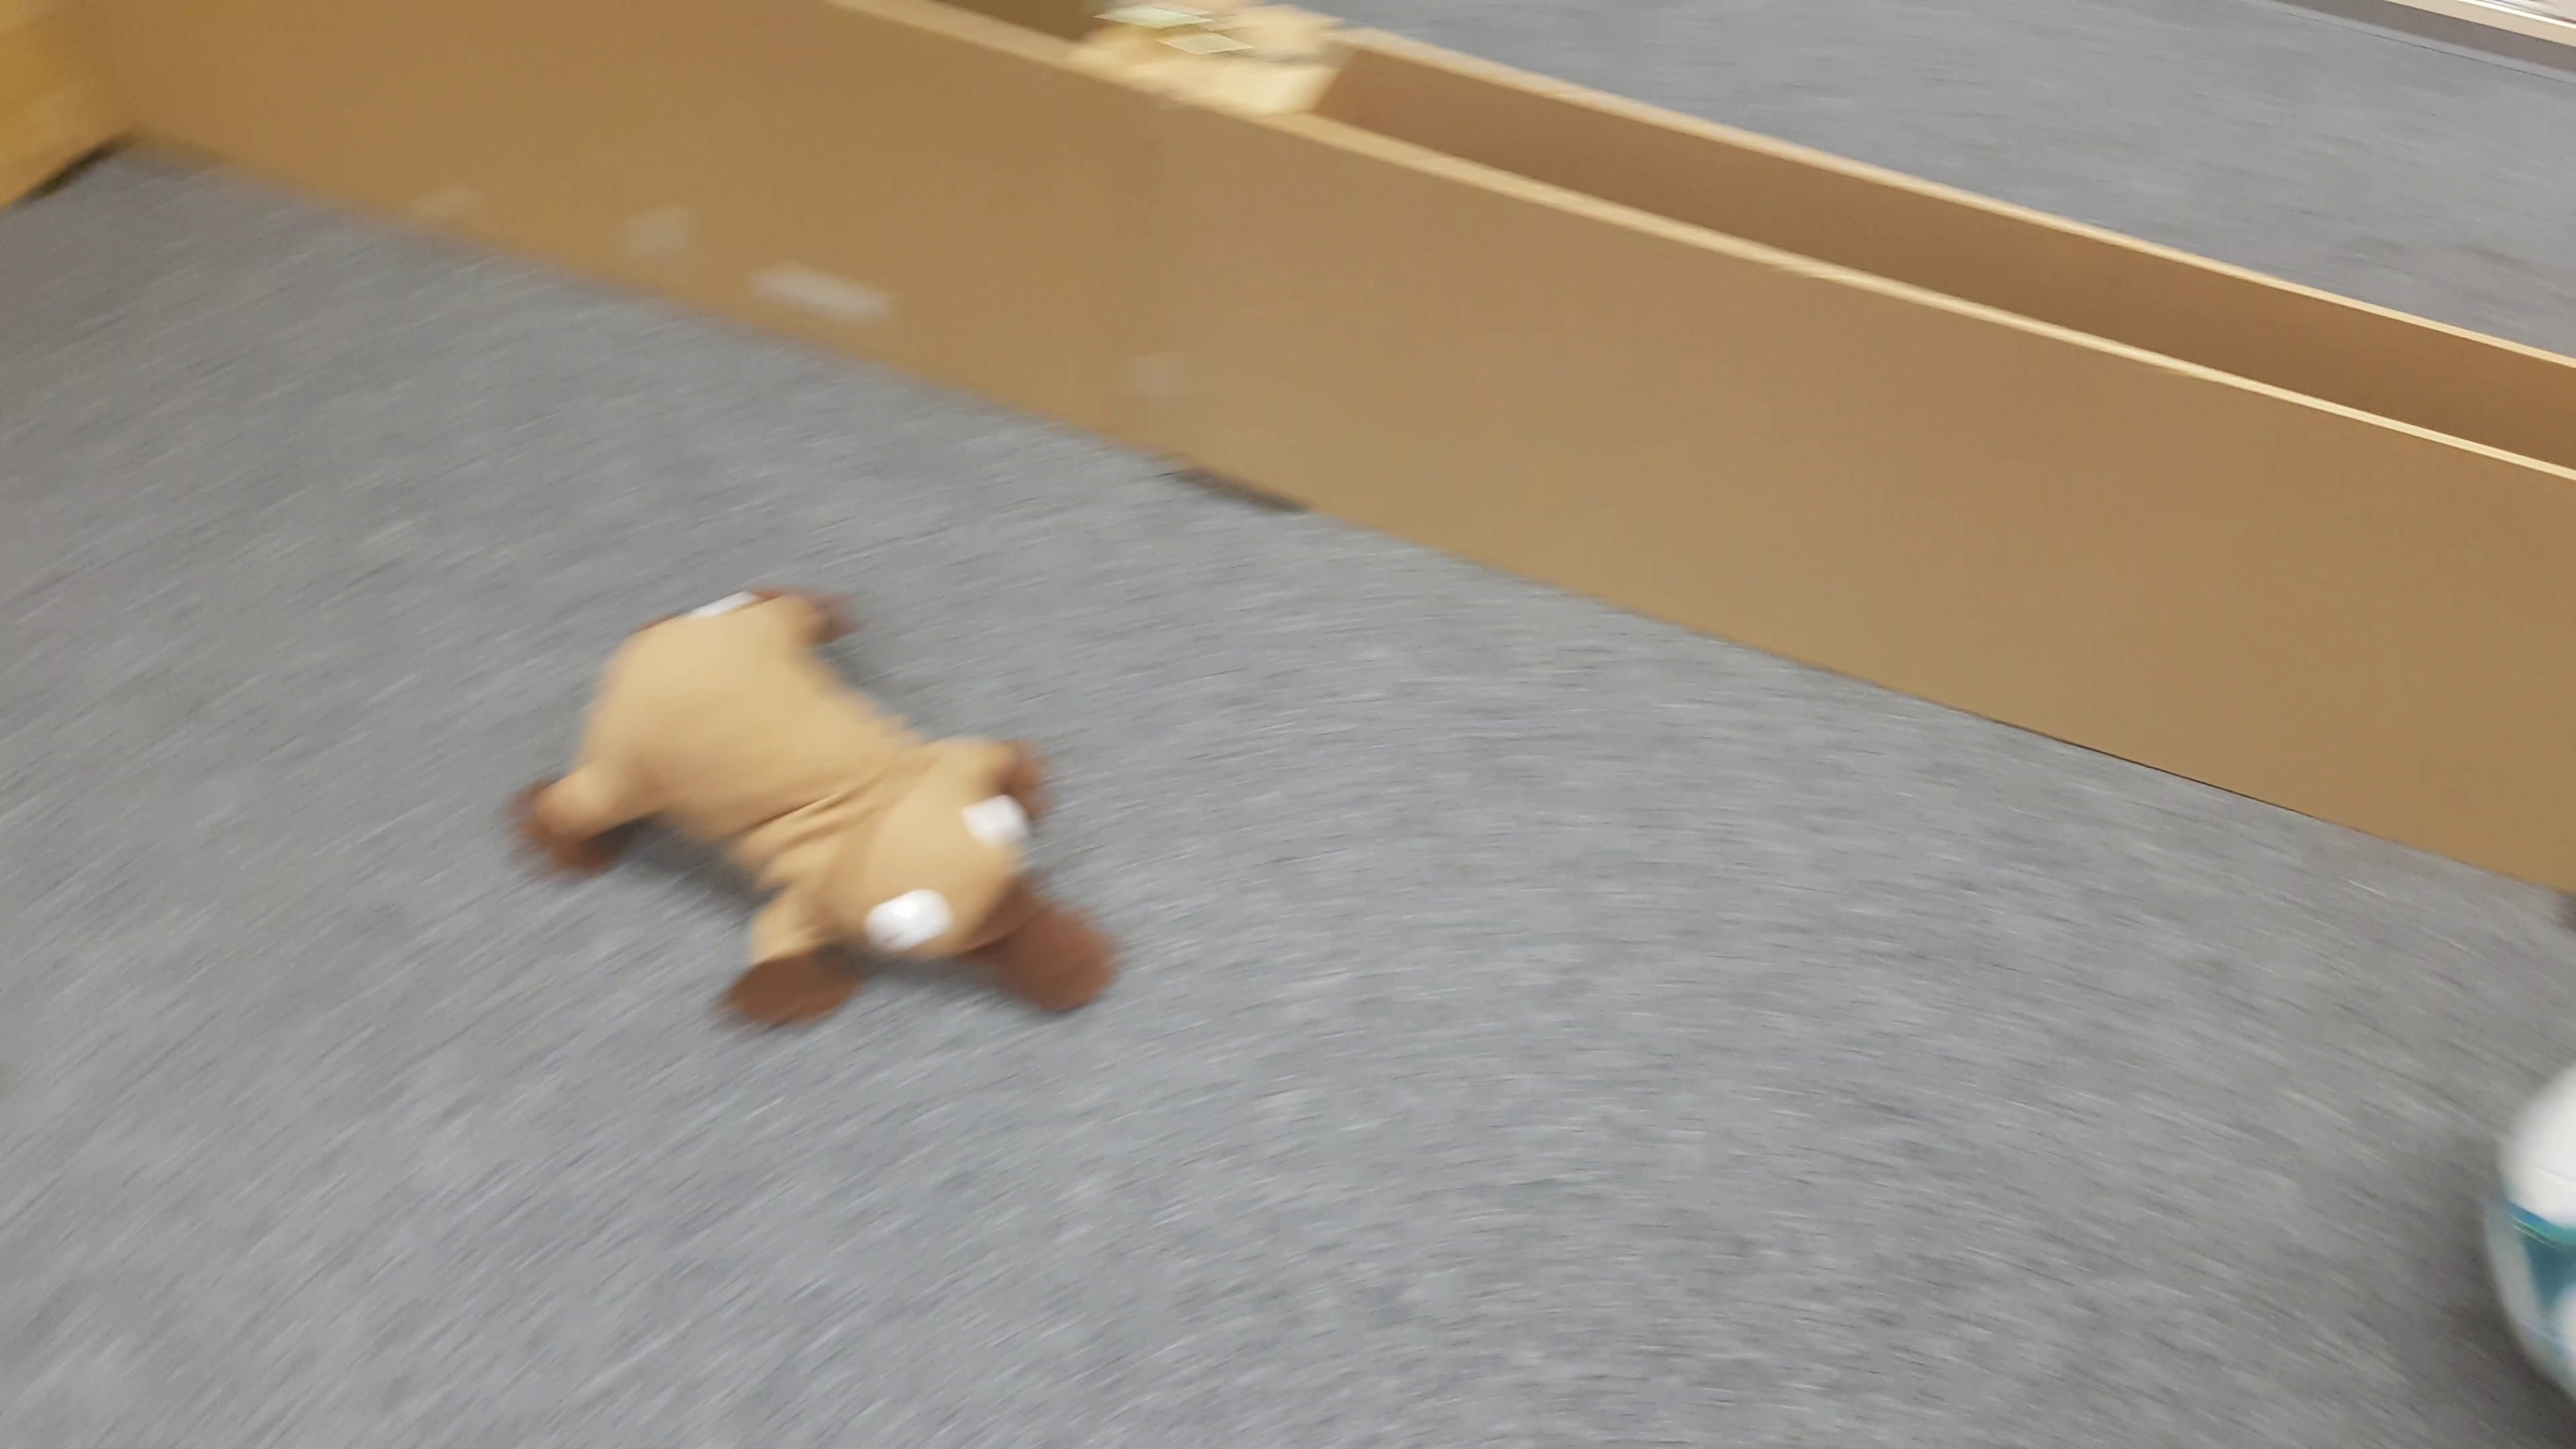grasp: (513, 580, 1116, 1023)
kick: (2486, 1058, 2576, 1392)
